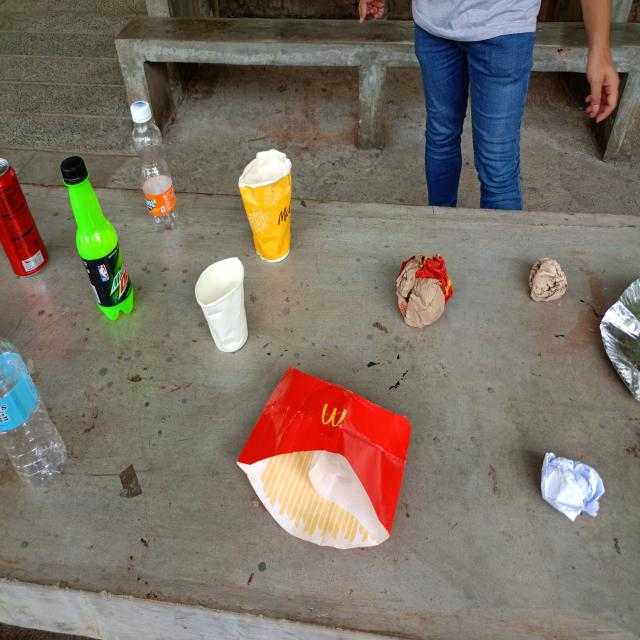Anorganik: (59, 152, 136, 318), (0, 328, 66, 490), (128, 98, 182, 228), (0, 154, 49, 277)
Organik: (236, 362, 415, 551), (236, 146, 292, 264), (192, 254, 251, 360), (539, 446, 606, 523), (394, 252, 453, 332), (528, 258, 568, 303)
